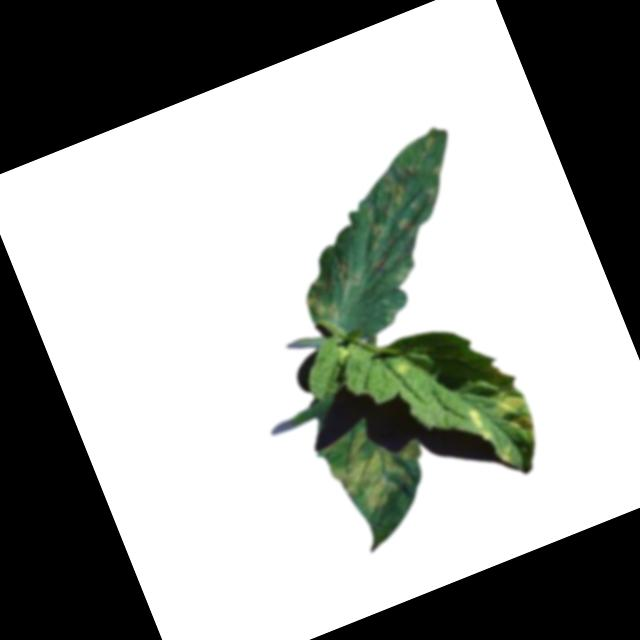Leaf_Mold: (318, 412, 438, 525), (485, 387, 542, 454), (298, 281, 344, 330), (355, 206, 392, 254), (374, 167, 410, 213), (327, 256, 365, 299), (463, 402, 492, 444), (394, 213, 417, 238), (393, 357, 414, 381)
